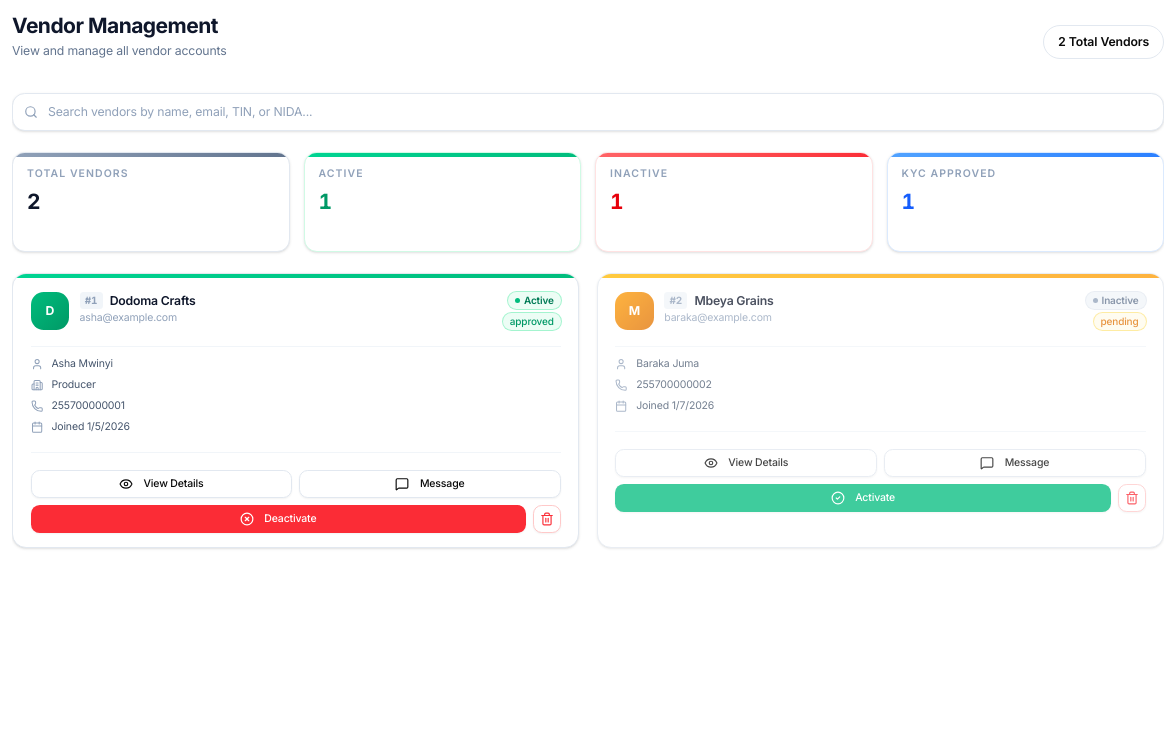
Test: VendorManagementTab › search › narrows the list to matching vendors
Expected: the heading "Dodoma Crafts" is shown, x1=110 y1=293 x2=196 y2=308
In the field with placeholder "Search vendors by name, email, TIN, or NIDA...": (588, 112) x1=12 y1=92 x2=1164 y2=131, type "mbeya"
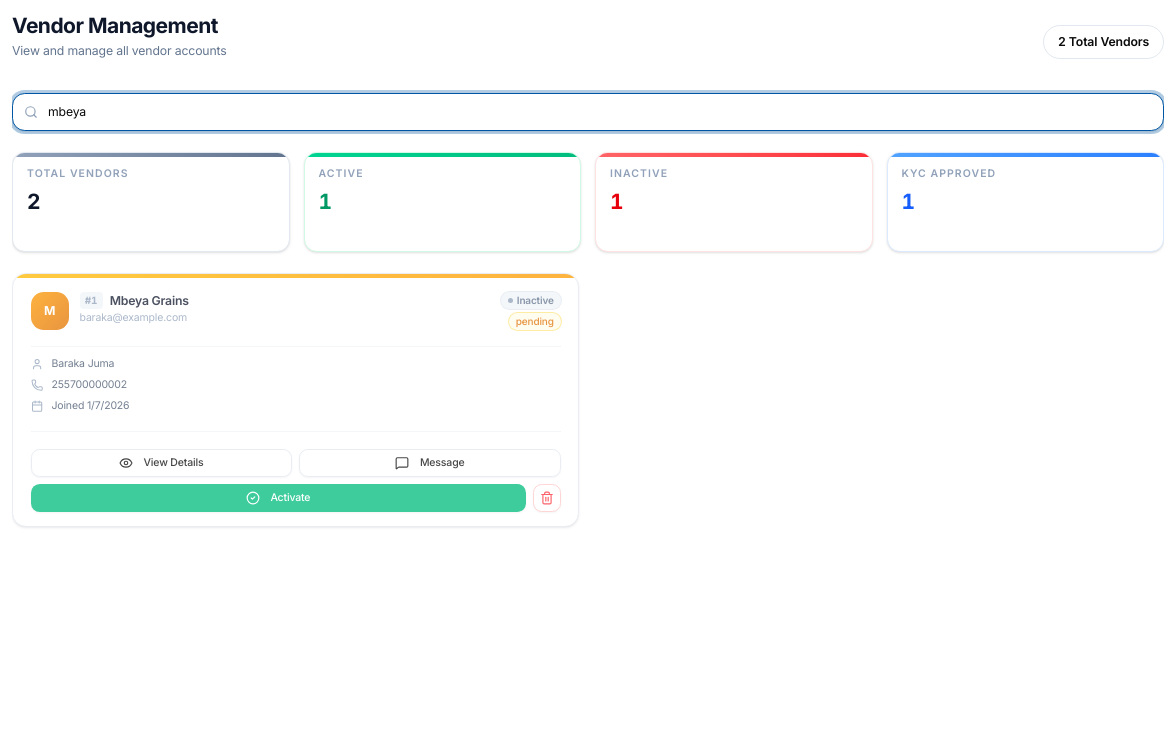
Expected: the heading "Mbeya Grains" is shown, x1=110 y1=293 x2=189 y2=308
Expected: the heading "Dodoma Crafts" is gone
